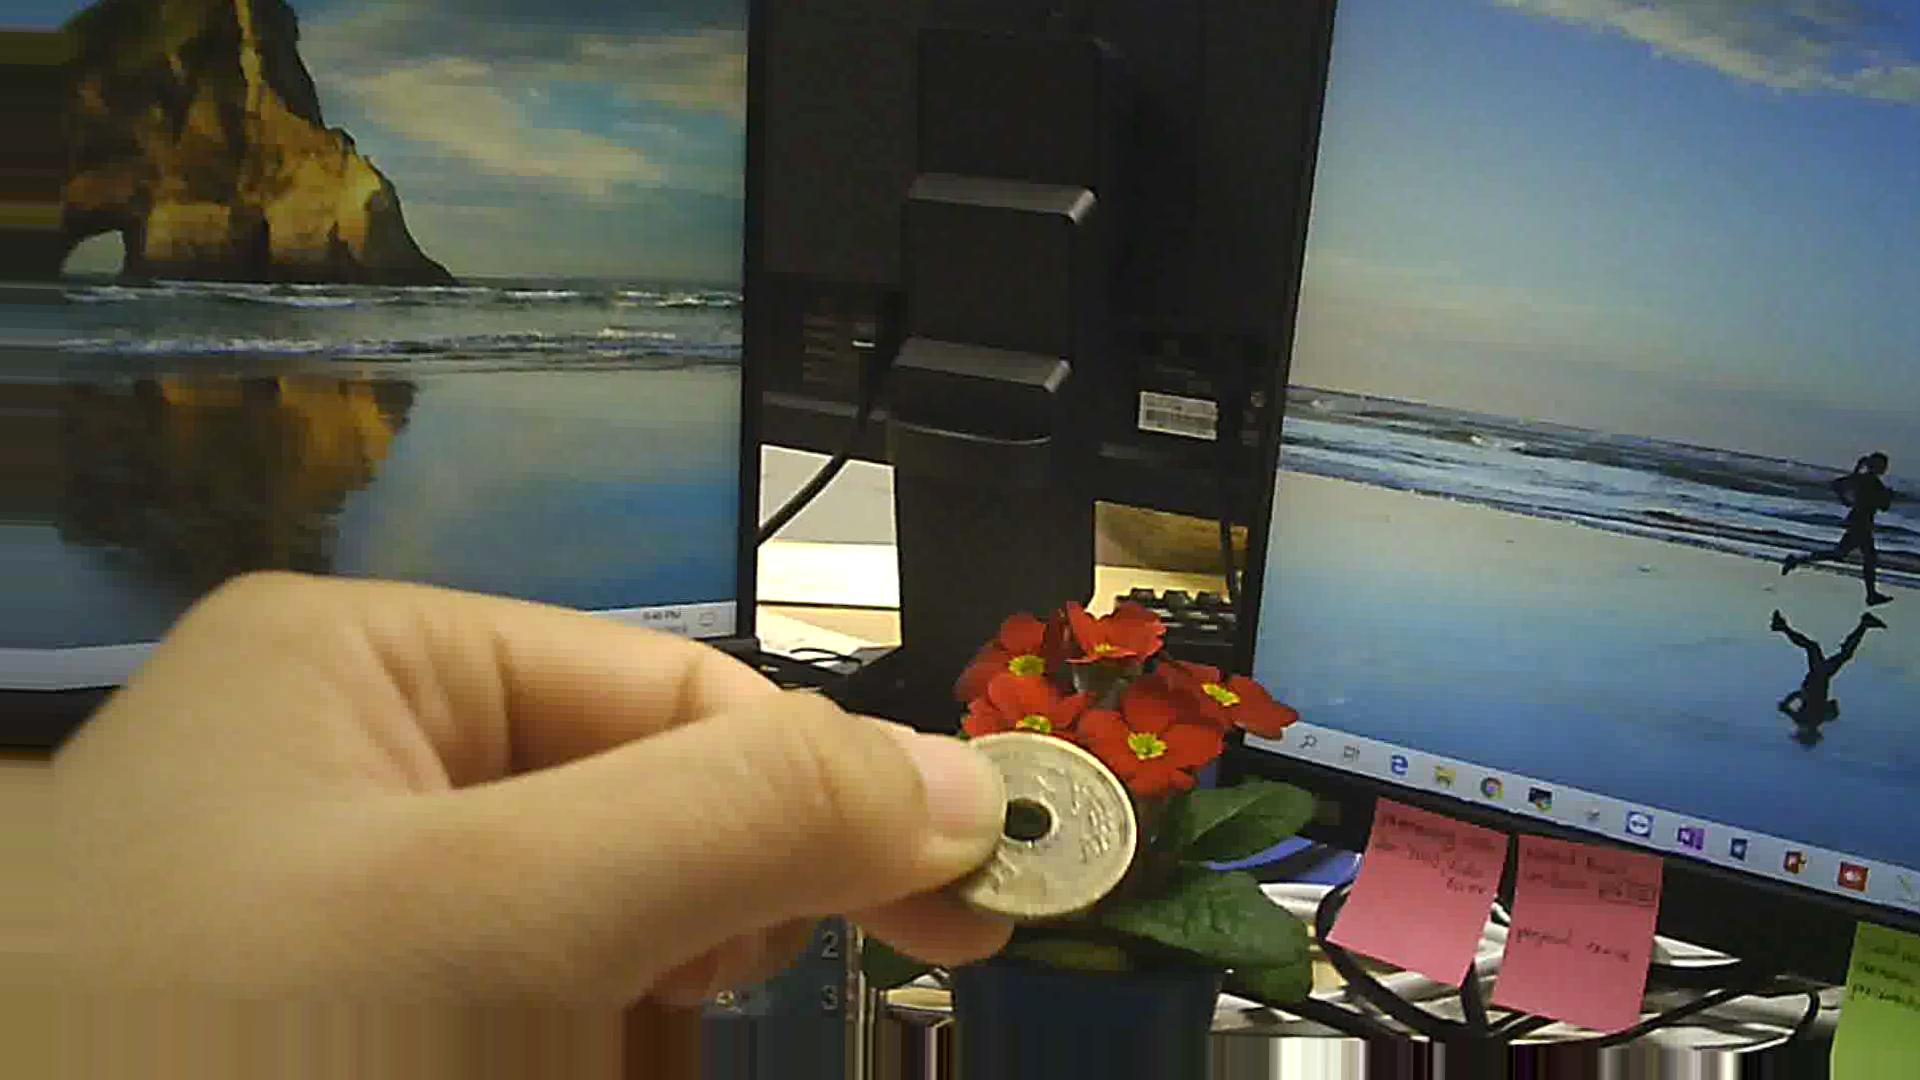5 Yen: (928, 712, 1137, 909)
